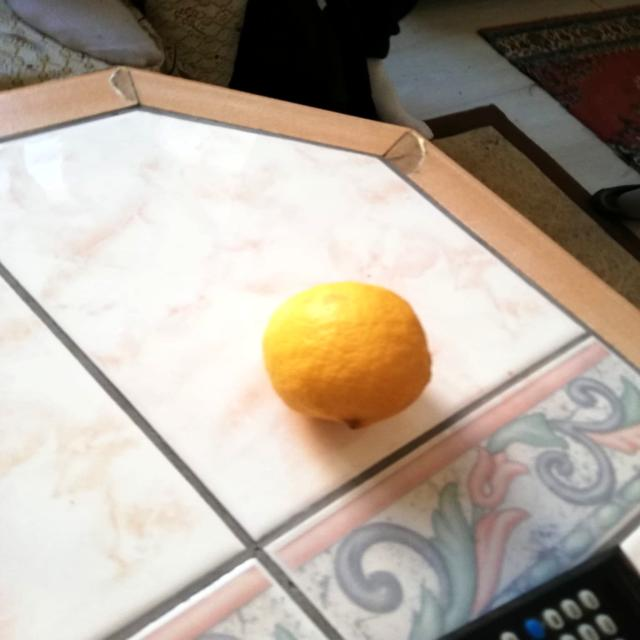lemon: (255, 273, 439, 434)
